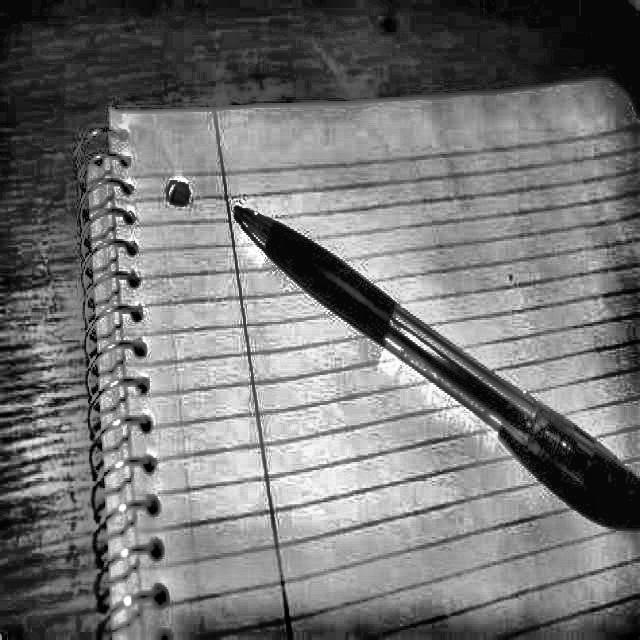Notebook: (63, 246, 308, 640)
Pen: (232, 209, 638, 535)
